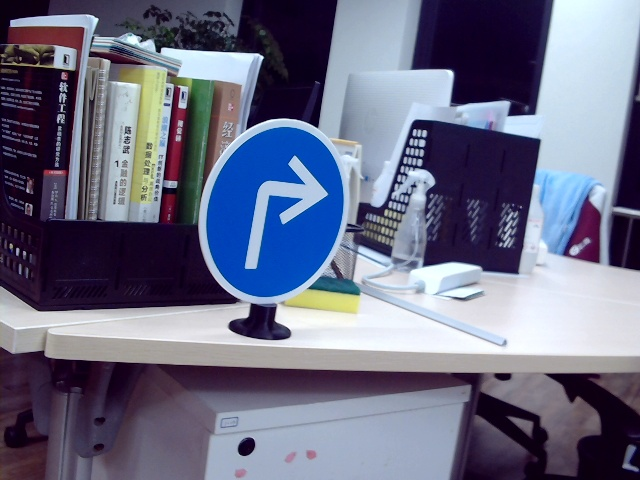turn_right: (241, 159, 328, 267)
